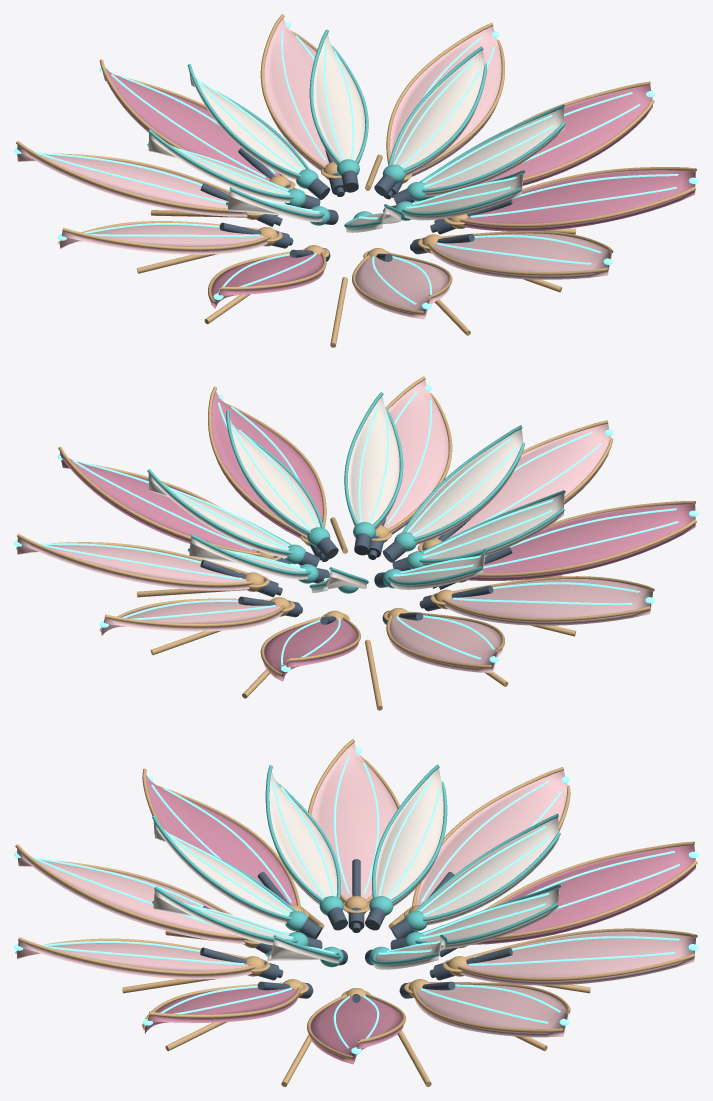
The model's file is parametric_petals_10.glb.
3 views of the same model, one above another, from view 1: azimuth 30°, elevation 25°; view 2: azimuth 150°, elevation 25°; view 3: azimuth 270°, elevation 25° (orthographic). The views are drawn at different scales.
Visible parts, largest first — view 1: DISPLAY_06_07_•_Opal_pink, DISPLAY_04_06_•_Rosy_ceramic, DISPLAY_00_02_•_Pearl_ivory, DISPLAY_05_03_•_Champagne_bronze, DISPLAY_02_11_•_Ion_emission_blue, DISPLAY_01_08_•_Jade_enamel, DISPLAY_03_04_•_Graphite_titanium; view 2: DISPLAY_06_07_•_Opal_pink, DISPLAY_00_02_•_Pearl_ivory, DISPLAY_04_06_•_Rosy_ceramic, DISPLAY_05_03_•_Champagne_bronze, DISPLAY_02_11_•_Ion_emission_blue, DISPLAY_01_08_•_Jade_enamel, DISPLAY_03_04_•_Graphite_titanium; view 3: DISPLAY_06_07_•_Opal_pink, DISPLAY_00_02_•_Pearl_ivory, DISPLAY_04_06_•_Rosy_ceramic, DISPLAY_05_03_•_Champagne_bronze, DISPLAY_02_11_•_Ion_emission_blue, DISPLAY_01_08_•_Jade_enamel, DISPLAY_03_04_•_Graphite_titanium.
Part boxes in pixels (bbox=[...]): DISPLAY_06_07_•_Opal_pink: bbox=[17, 18, 611, 319]; DISPLAY_04_06_•_Rosy_ceramic: bbox=[103, 68, 695, 308]; DISPLAY_00_02_•_Pearl_ivory: bbox=[148, 34, 564, 232]; DISPLAY_05_03_•_Champagne_bronze: bbox=[16, 14, 696, 347]; DISPLAY_02_11_•_Ion_emission_blue: bbox=[14, 22, 698, 309]; DISPLAY_01_08_•_Jade_enamel: bbox=[147, 29, 565, 228]; DISPLAY_03_04_•_Graphite_titanium: bbox=[200, 148, 512, 261]; DISPLAY_06_07_•_Opal_pink: bbox=[17, 380, 652, 672]; DISPLAY_00_02_•_Pearl_ivory: bbox=[148, 396, 564, 592]; DISPLAY_04_06_•_Rosy_ceramic: bbox=[60, 391, 695, 681]; DISPLAY_05_03_•_Champagne_bronze: bbox=[16, 376, 696, 710]; DISPLAY_02_11_•_Ion_emission_blue: bbox=[14, 384, 698, 671]; DISPLAY_01_08_•_Jade_enamel: bbox=[147, 392, 565, 593]; DISPLAY_03_04_•_Graphite_titanium: bbox=[200, 516, 512, 624]; DISPLAY_06_07_•_Opal_pink: bbox=[17, 743, 695, 1037]; DISPLAY_00_02_•_Pearl_ivory: bbox=[153, 768, 559, 969]; DISPLAY_04_06_•_Rosy_ceramic: bbox=[144, 775, 695, 1064]; DISPLAY_05_03_•_Champagne_bronze: bbox=[15, 739, 697, 1086]; DISPLAY_02_11_•_Ion_emission_blue: bbox=[14, 747, 698, 1054]; DISPLAY_01_08_•_Jade_enamel: bbox=[152, 764, 560, 967]; DISPLAY_03_04_•_Graphite_titanium: bbox=[200, 859, 512, 1002].
Bounding box in the file's own units: 9.54 × 2.09 × 9.08.
